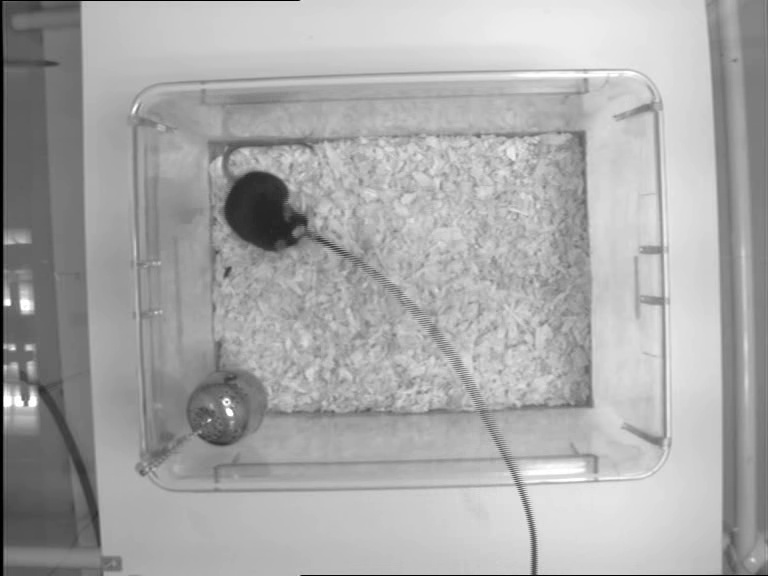mice: (216, 139, 318, 250)
